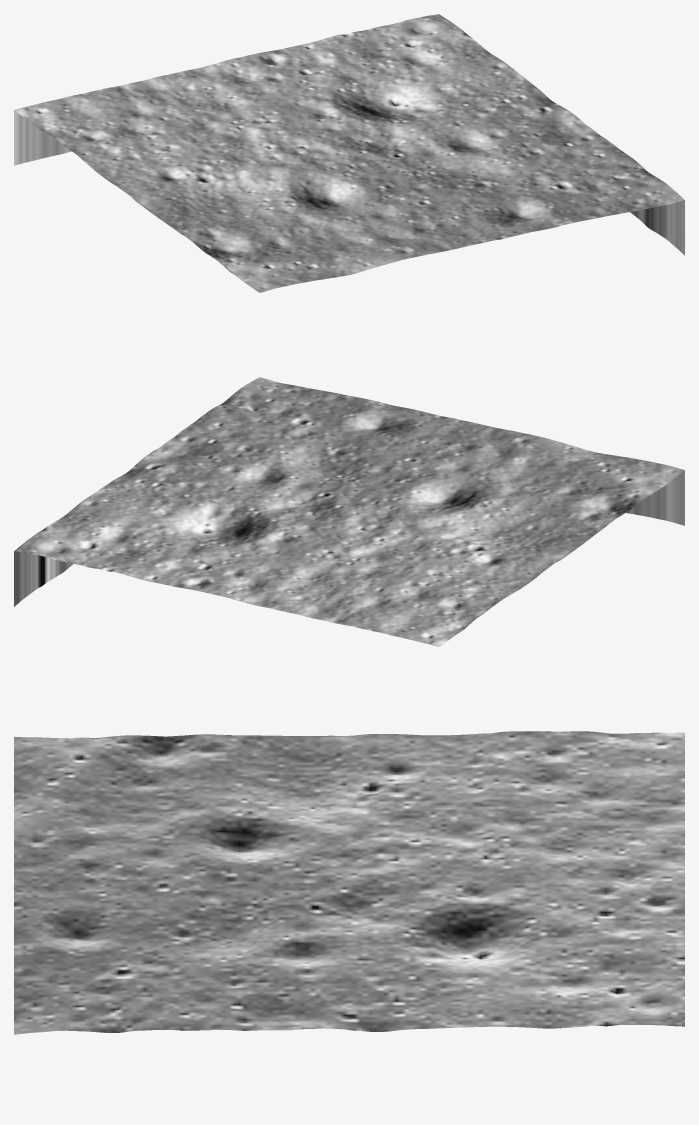
The picture shows the model from 3 angles, top to bottom: view 1: azimuth 30°, elevation 25°; view 2: azimuth 150°, elevation 25°; view 3: azimuth 270°, elevation 25°; orthographic projection. The views are drawn at different scales.
Size of the model in its own units: 638 by 102 by 639.
Materials: 1 (1 with a texture image).
